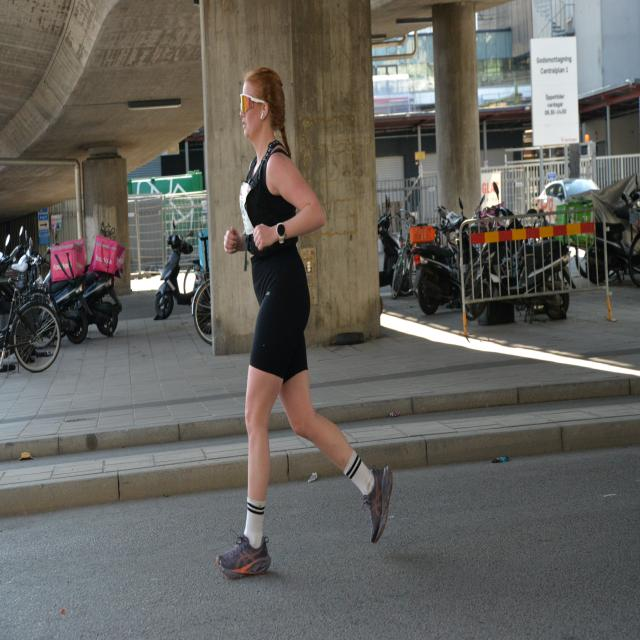runner-detect: (212, 64, 392, 574)
